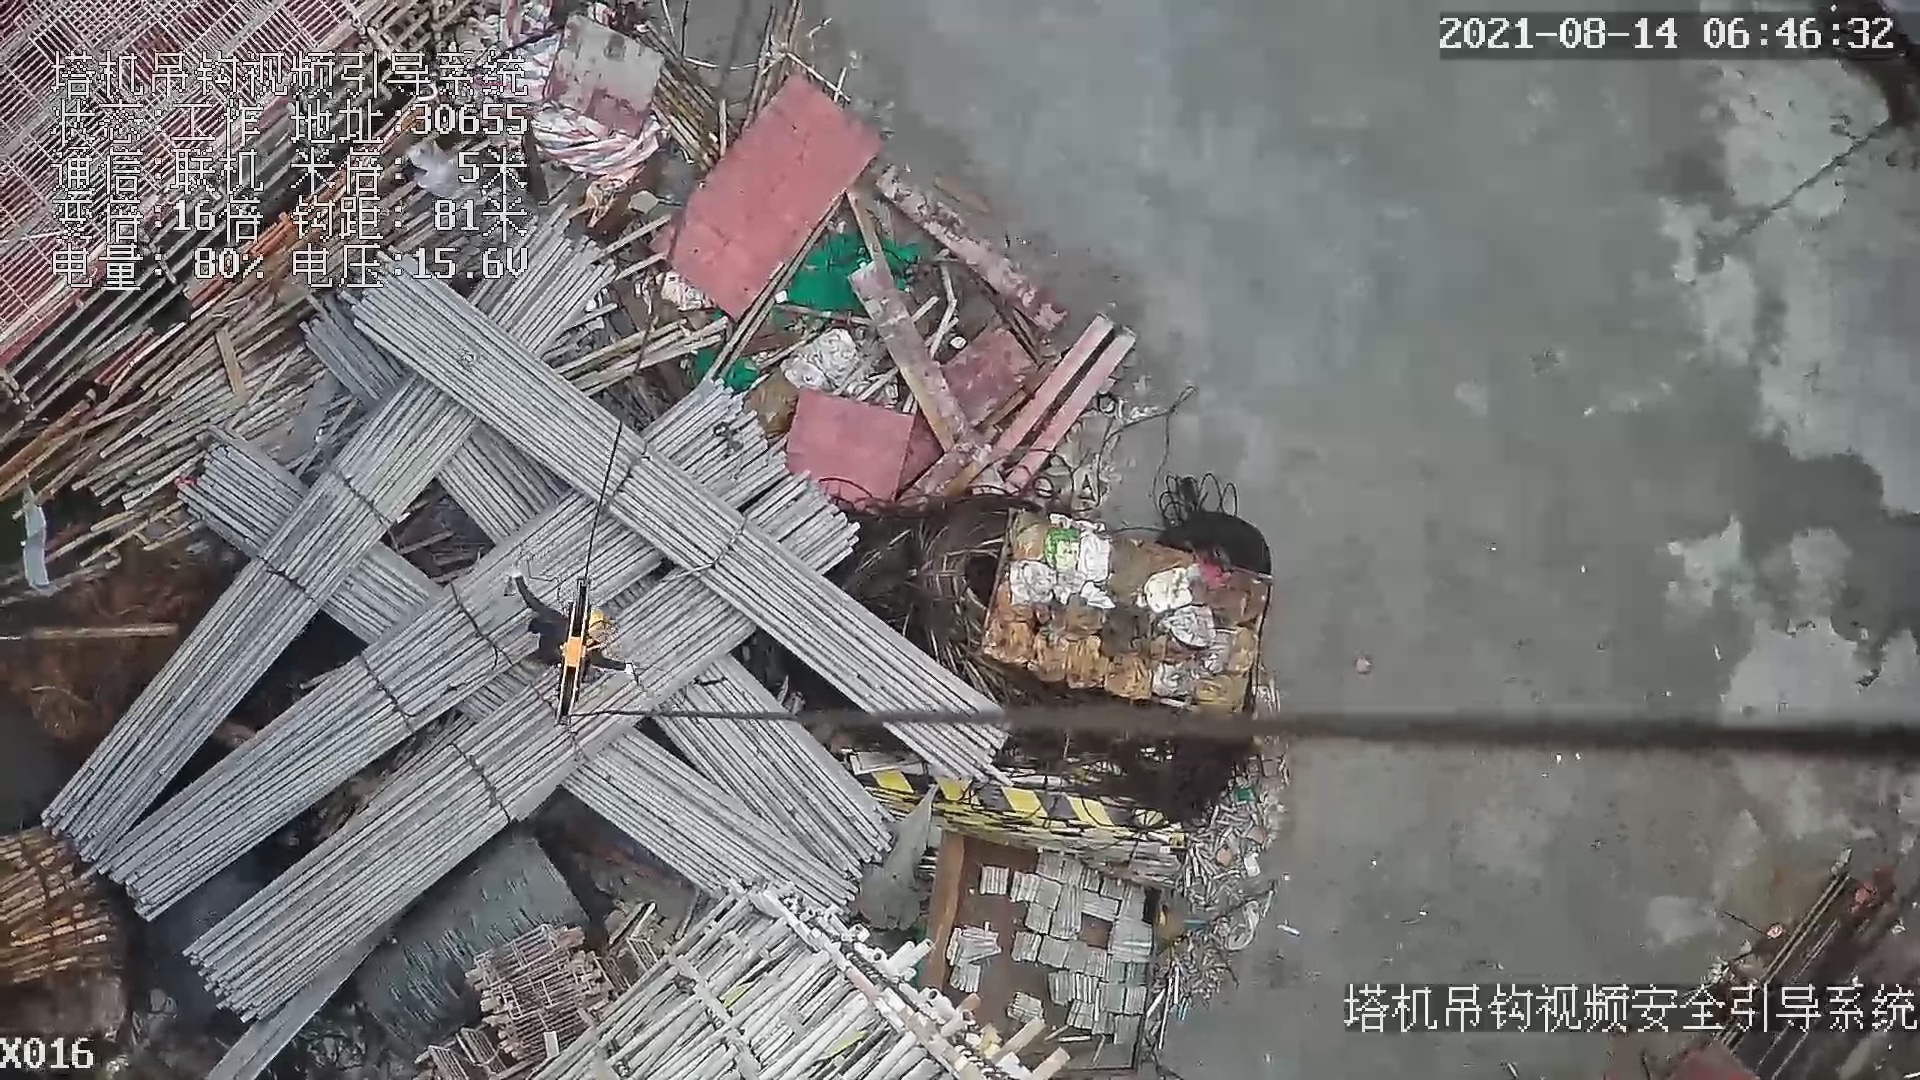board: (658, 78, 880, 313)
hook: (550, 573, 605, 728)
person: (504, 568, 651, 683)
scaffold: (3, 824, 117, 983)
